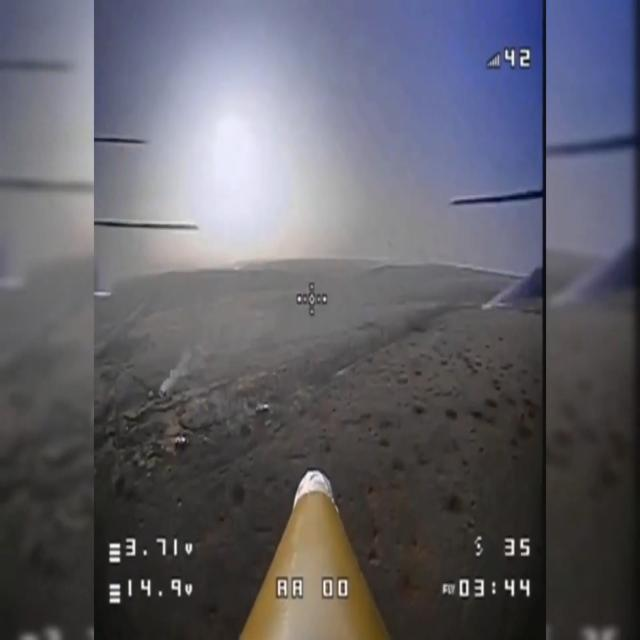cars: (173, 437, 189, 450), (255, 402, 269, 413)
